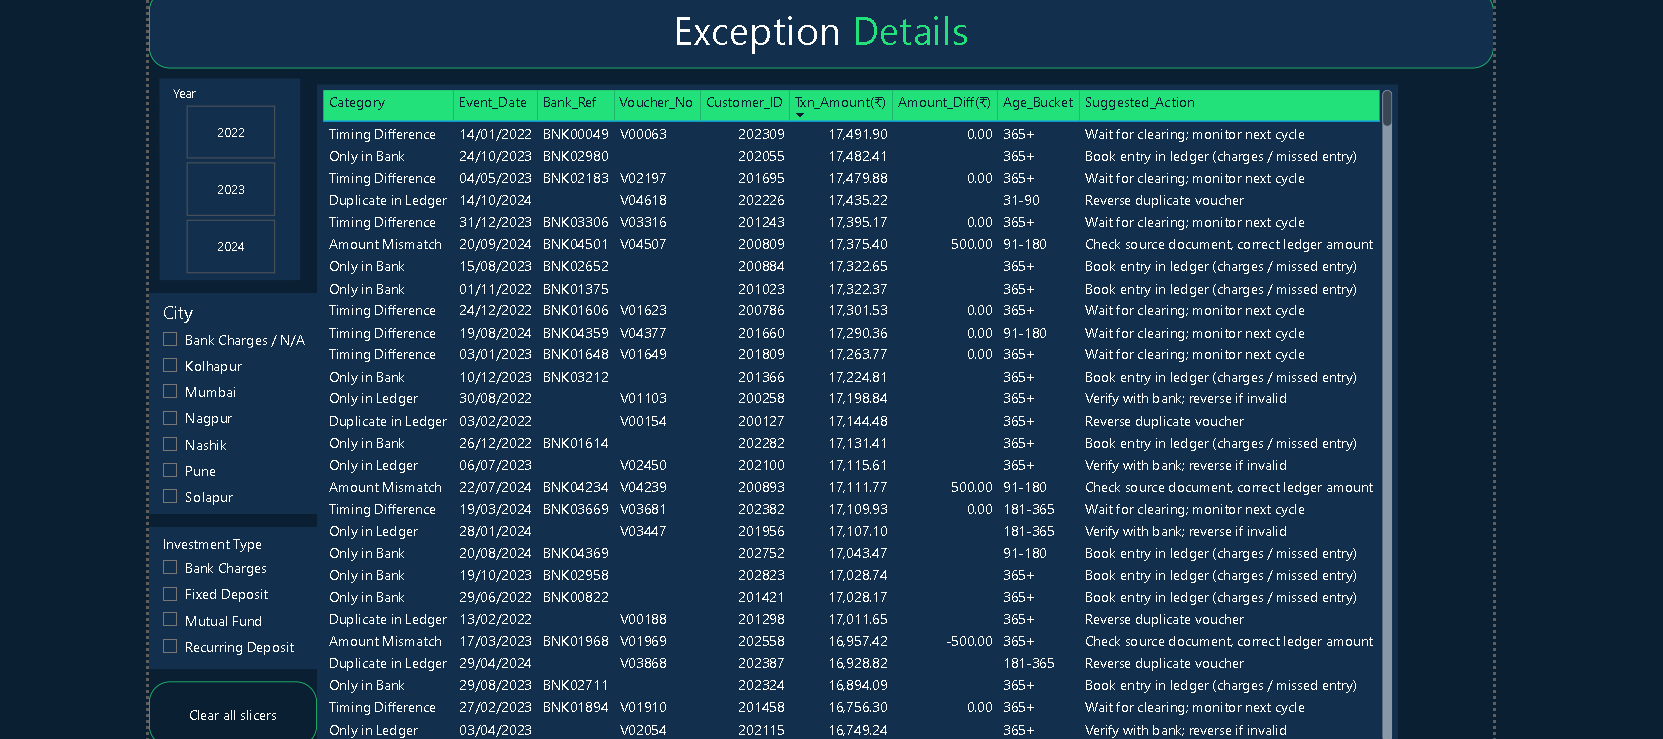

The page's visual inventory and layout, read from the dashboard file:
{"tool":"powerbi","page":{"name":"Exception","canvas":[1280,720],"ordinal":1},"visuals":[{"type":"tableEx","fields":{"Values":["Recon.Category","Recon.Event_Date.Variation.Date Hierarchy.Year","Recon.Bank_Ref","Recon.Voucher_No","Recon.Customer_ID","Sum(Recon.Txn_Amount)","Sum(Recon.Amount_Diff)","Recon.Age_Bucket","Recon.Suggested_Action"]},"box":[160.7,89.4,1028.7,631.1],"z":0},{"type":"textbox","box":[0,0,1280.5,74.5],"z":1000},{"type":"slicer","fields":{"Values":["Recon.Year"]},"box":[9.9,84.5,134.2,192.2],"z":2000},{"type":"slicer","fields":{"Values":["Customers.City"]},"box":[0,288.3,160,210],"z":3000},{"type":"slicer","fields":{"Values":["Recon.Investment_Type"]},"box":[0,511.7,160,135],"z":4000},{"type":"actionButton","box":[0,658.3,160,61.7],"z":5000}]}

Visuals, with their boxes on the page's 1280x720 design canvas (x1, y1, x2, y2). These are canvas units, not pixel positions in the 1663x739 screenshot, which may show the page scaled, cropped or inside an application window:
tableEx - Recon.Category x Recon.Event_Date.Variation.Date Hierarchy.Year: 161,89,1189,720
textbox: 0,0,1280,74
slicer - Recon.Year: 10,84,144,277
slicer - Customers.City: 0,288,160,498
slicer - Recon.Investment_Type: 0,512,160,647
actionButton: 0,658,160,720
